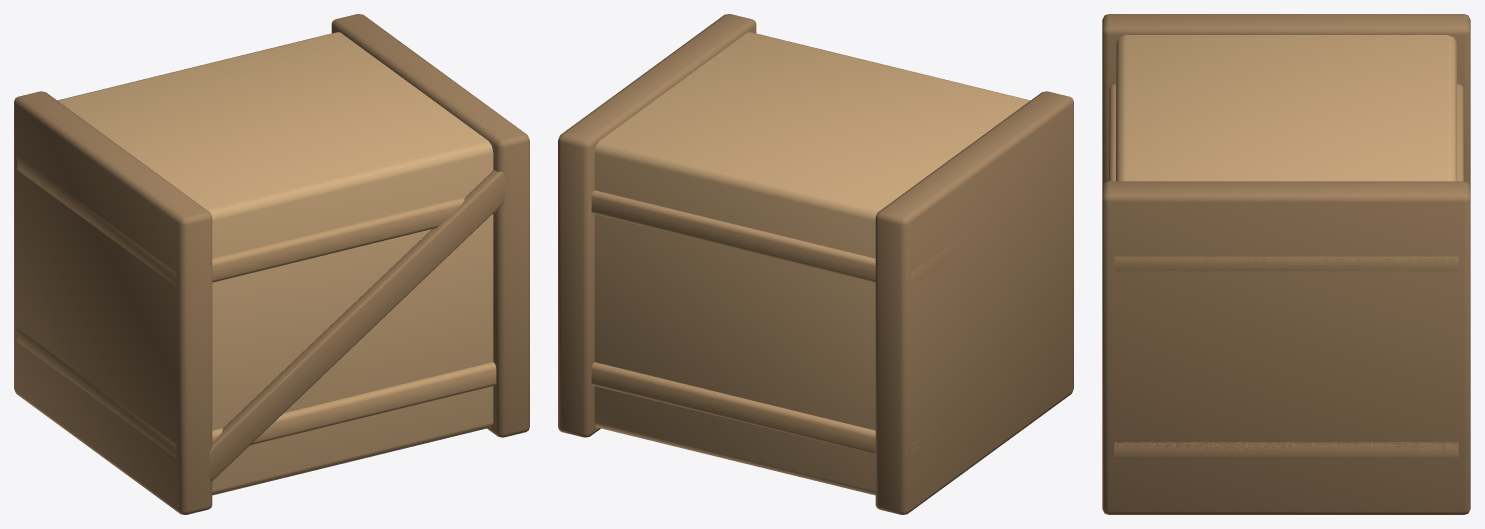
File: caixote.glb
3 views of the same model, side by side, from view 1: azimuth 30°, elevation 25°; view 2: azimuth 150°, elevation 25°; view 3: azimuth 270°, elevation 25° (orthographic). The views are drawn at different scales.
Parts seen in each view (by area): view 1: caixote; view 2: caixote; view 3: caixote.
Boxes of the visible parts, left/top/right/bottom form: caixote: left=14, top=14, right=529, bottom=514; caixote: left=558, top=14, right=1073, bottom=514; caixote: left=1102, top=14, right=1470, bottom=514.
Bounding box in the file's own units: 0.64 × 0.52 × 0.54.
